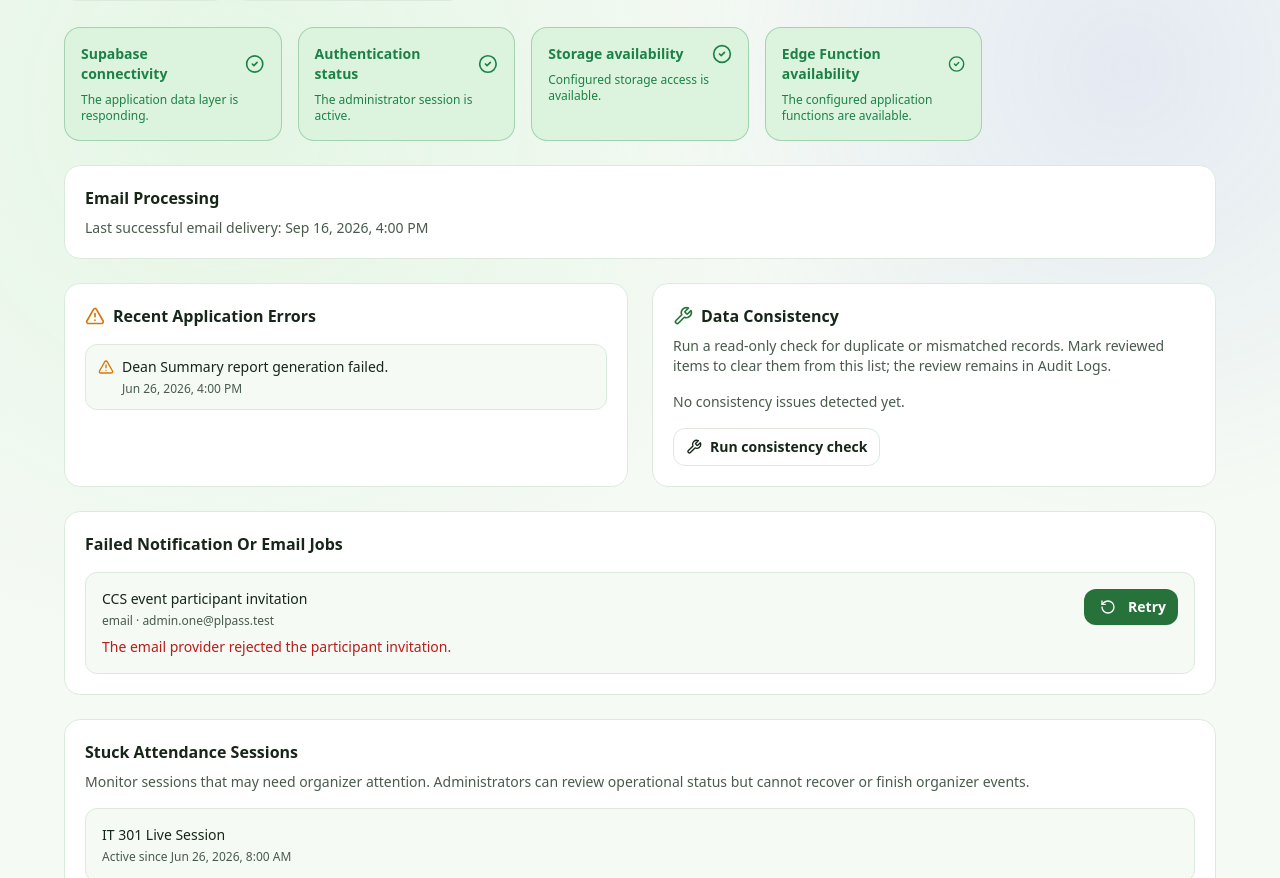
it: organizer UI flows › runs a data consistency check without requiring a recovery reason
The width and height of the screenshot is (1280, 878).
(page scrolled)
Click the button "Run consistency check".
click(777, 447)  # box [673,428,880,466]
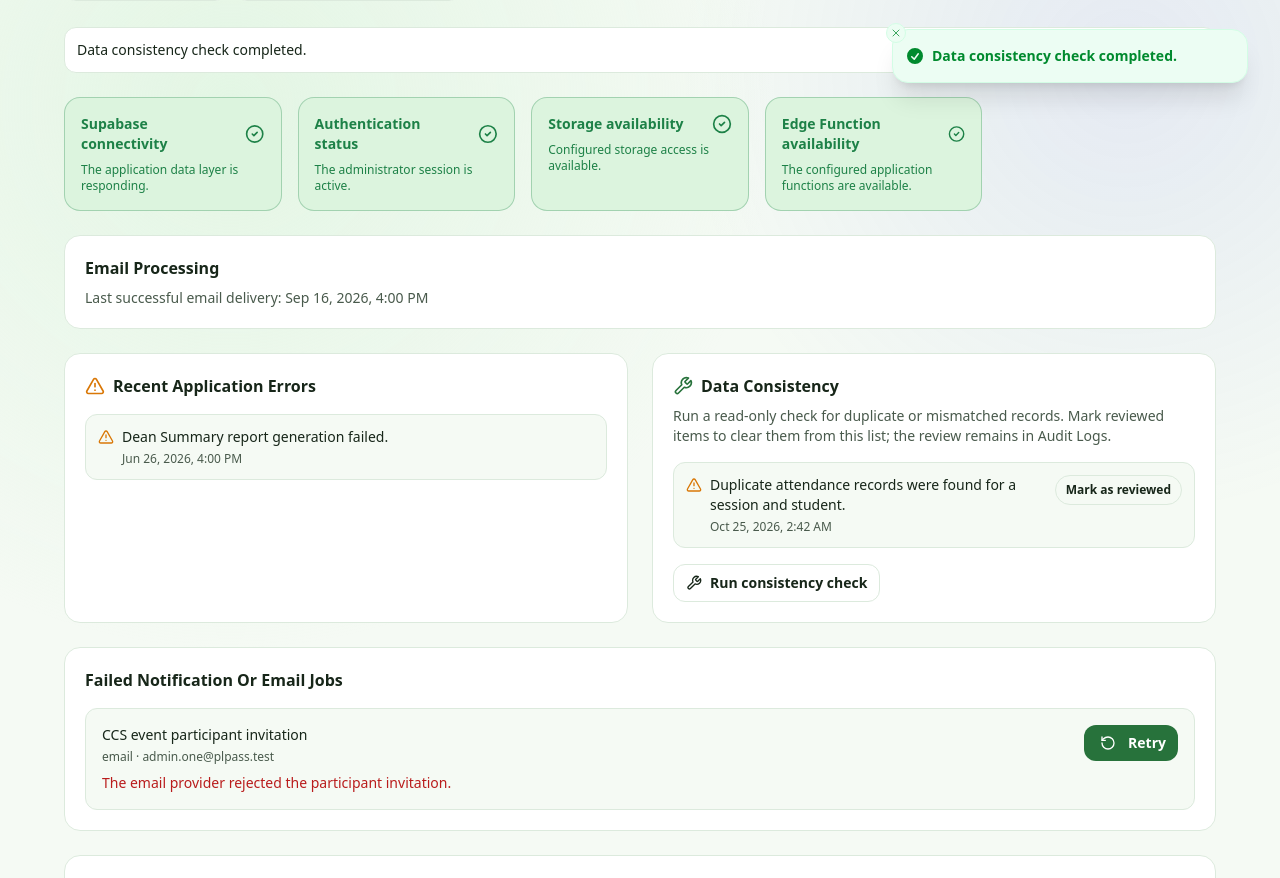
Expected: the message shows "Data consistency check completed", [77,40,306,59]
